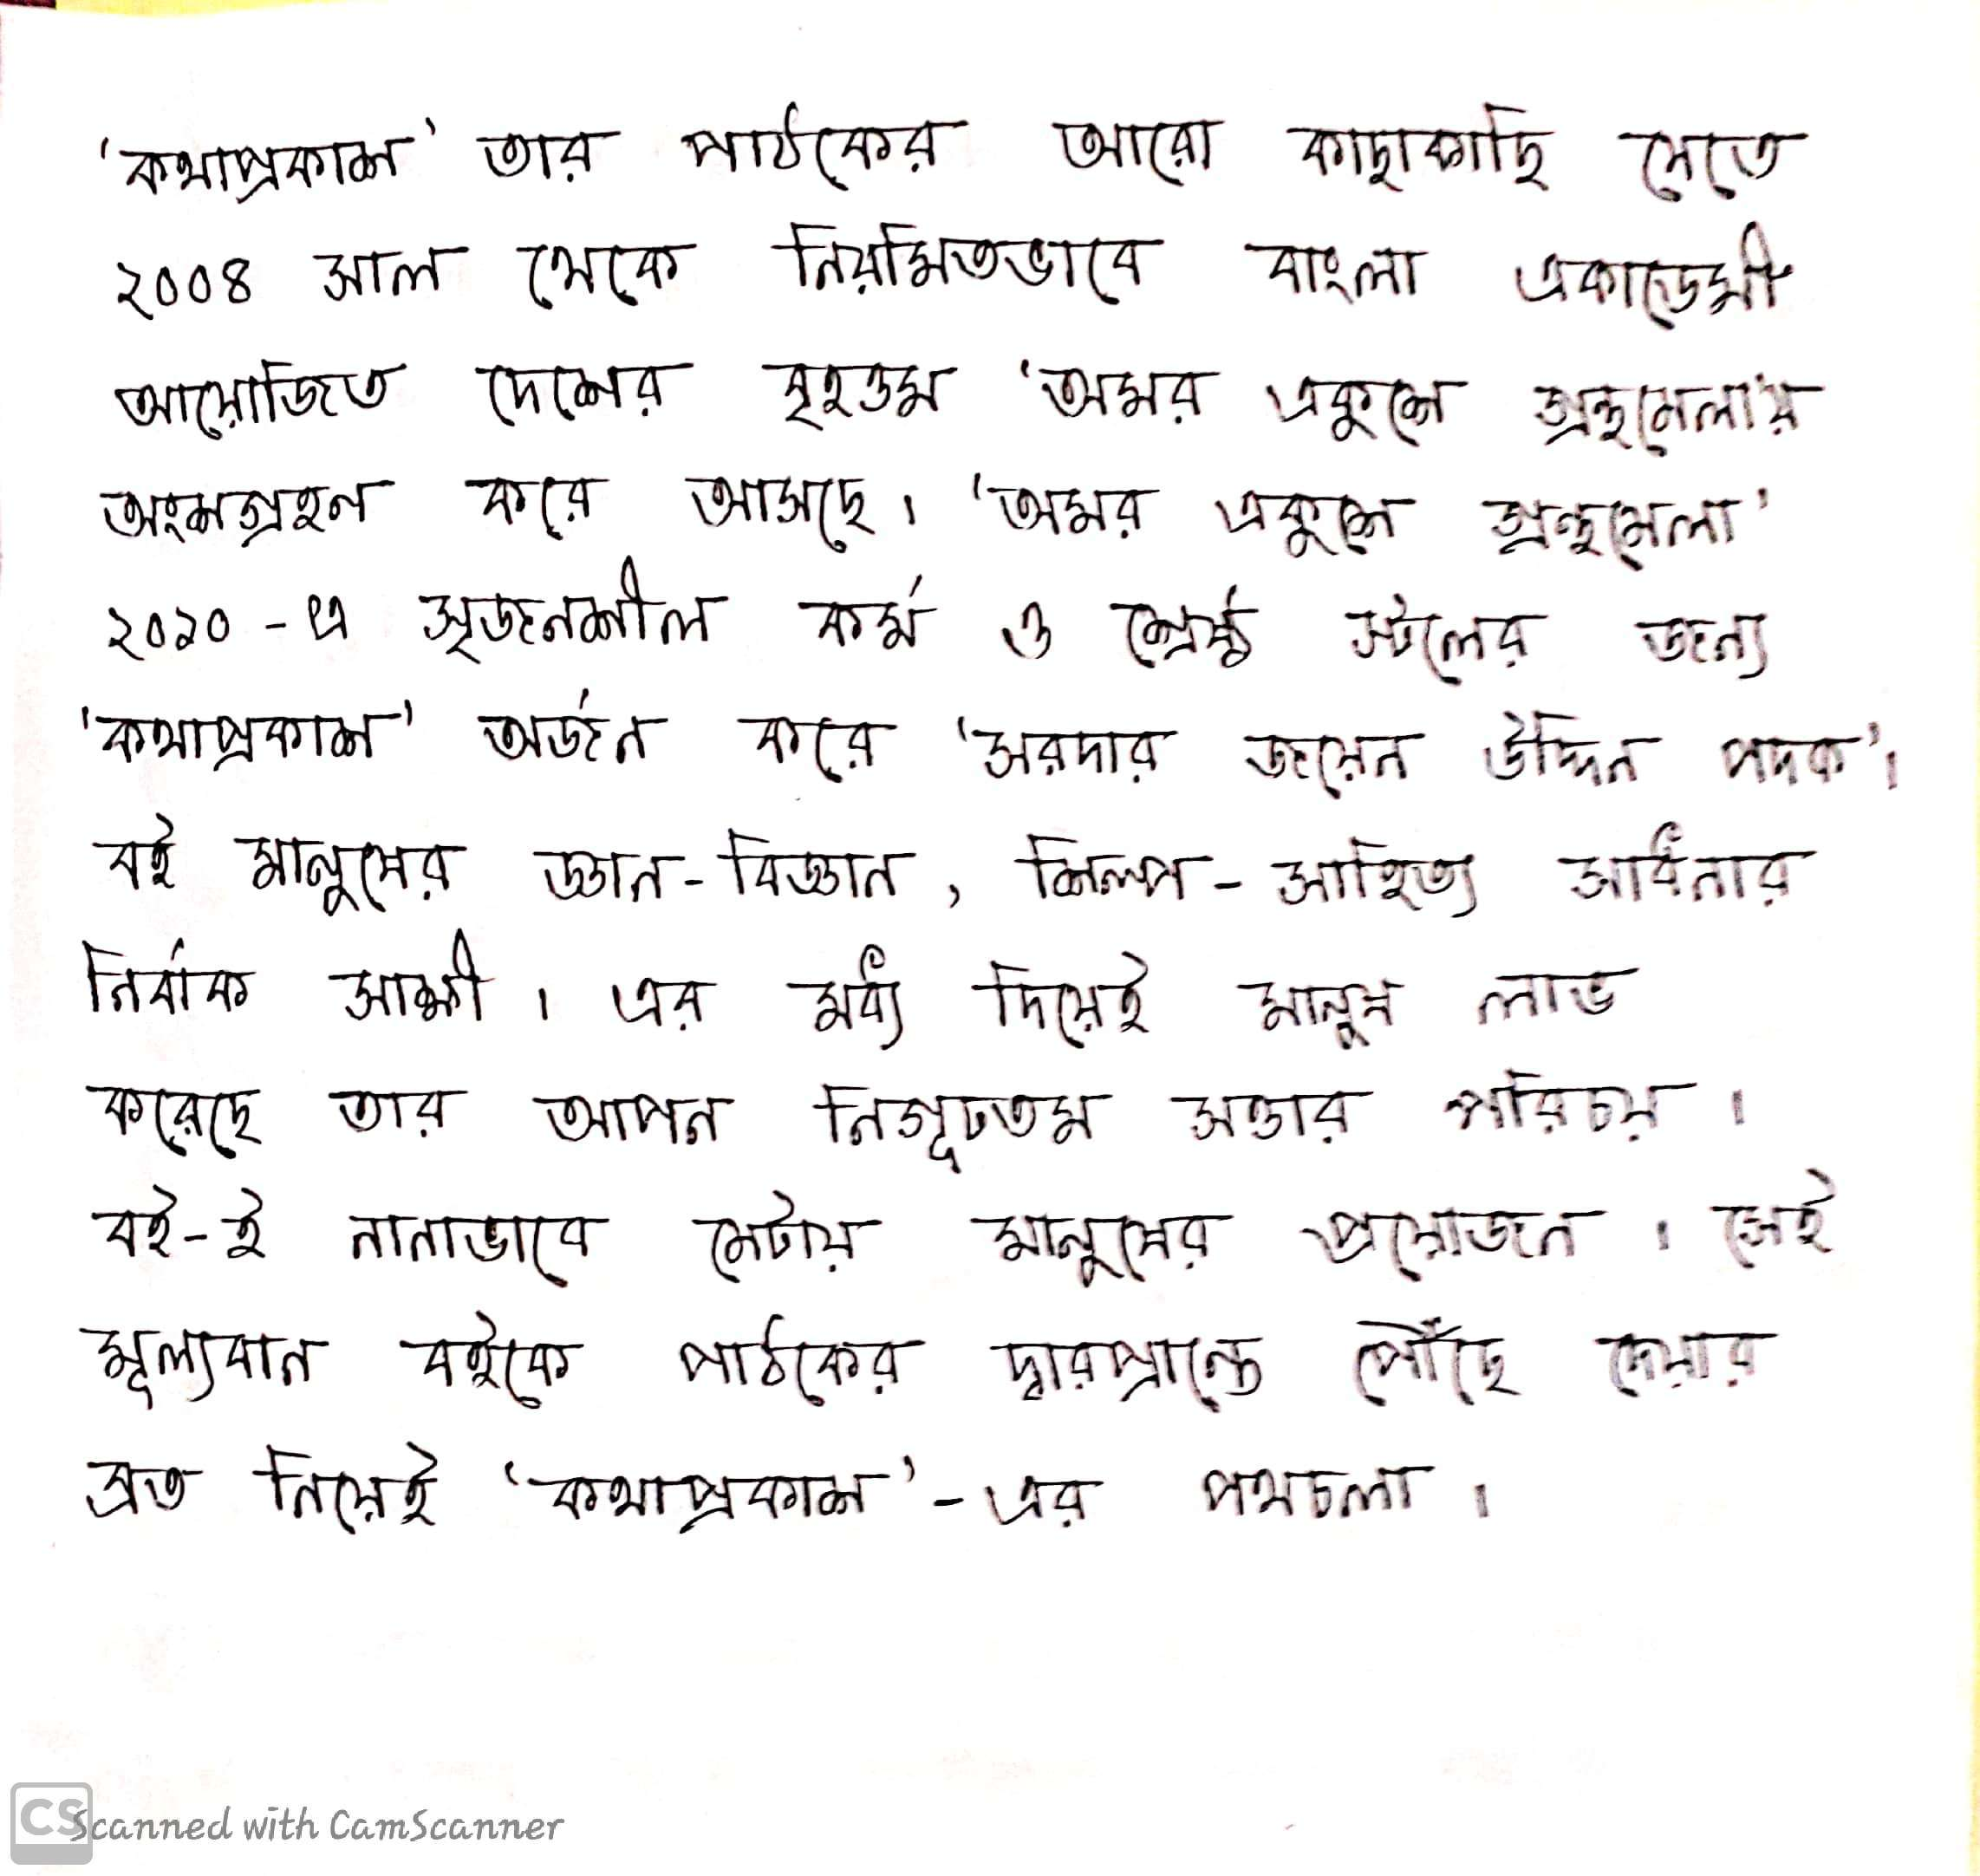line: (104, 552, 1781, 688), (97, 1164, 1839, 1291), (76, 689, 1890, 802), (116, 349, 1828, 464), (67, 931, 1641, 1054), (95, 100, 1814, 208), (113, 217, 1795, 326), (81, 820, 1818, 920), (99, 476, 1772, 577), (86, 1070, 1751, 1171), (83, 1432, 1497, 1546), (81, 1315, 1781, 1407)
